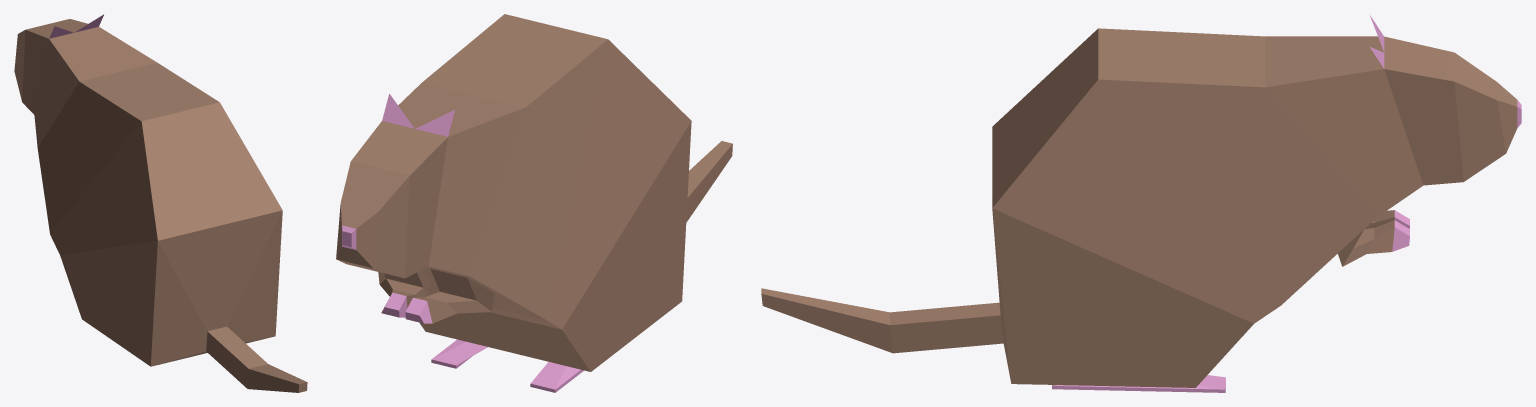
Rendered from tony.fbx.
3 views of the same model, side by side, from view 1: azimuth 30°, elevation 25°; view 2: azimuth 150°, elevation 25°; view 3: azimuth 270°, elevation 25° (orthographic). The views are drawn at different scales.
Visible parts, largest first — view 1: Cube; view 2: Cube; view 3: Cube.
Boxes of the visible parts, <box> form: Cube: <box>14,14,307,392</box>; Cube: <box>336,14,732,392</box>; Cube: <box>761,14,1521,392</box>.
Size of the model in its own units: 200 by 379 by 787.
